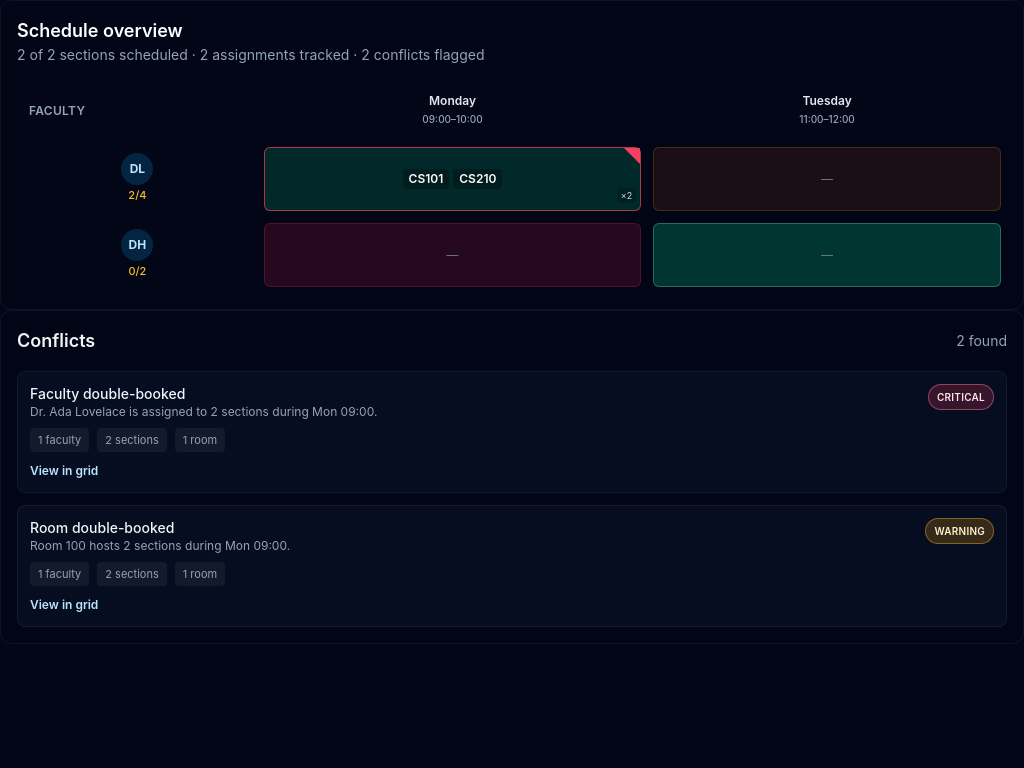
Test: ScheduleGrid interactions › lets users jump to a conflicted cell from the conflict panel
The width and height of the screenshot is (1024, 768).
Click the button "View in grid" below "Faculty double-booked".
click(64, 471)  # box [30, 463, 98, 479]
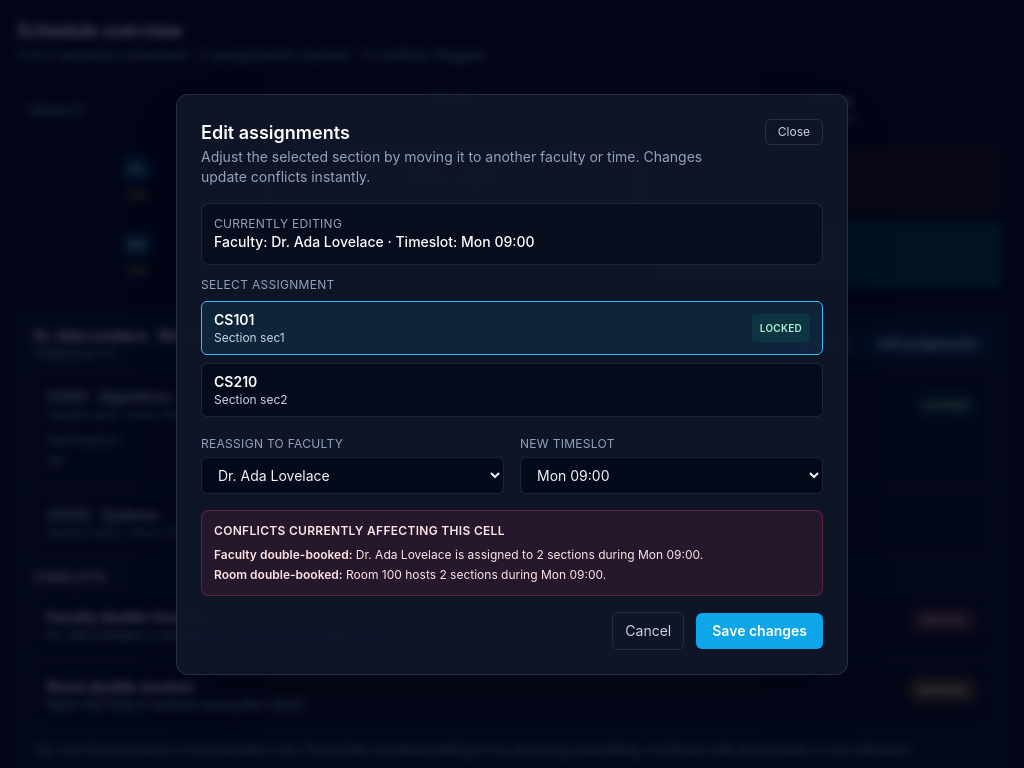
Check: the text "Dr. Ada Lovelace · Mon 09:00" is shown, box [34, 326, 234, 346]
Check: the text "Faculty double-booked" is shown, box [47, 608, 204, 625]
